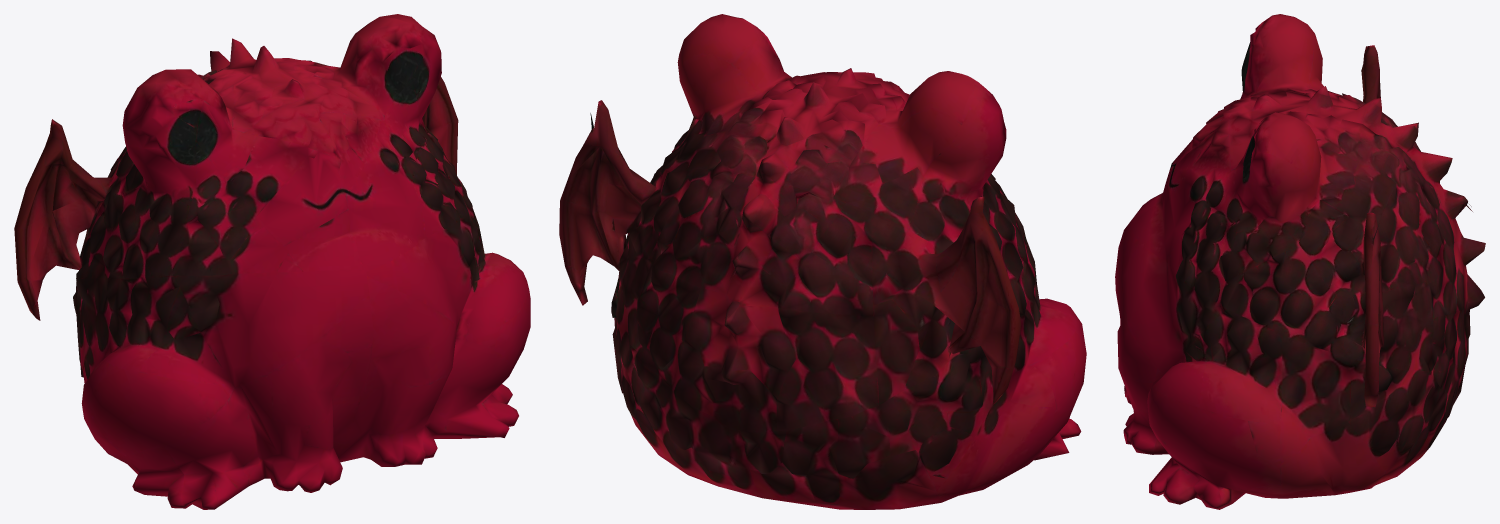
File: dragon.glb
The picture shows the model from 3 angles, left to right: view 1: azimuth 30°, elevation 25°; view 2: azimuth 150°, elevation 25°; view 3: azimuth 270°, elevation 25°; orthographic projection. The views are drawn at different scales.
Visible parts, largest first — view 1: mesh_node; view 2: mesh_node; view 3: mesh_node.
Boxes of the visible parts, x1,y1,x2,y2 form: mesh_node: (14,14,530,509); mesh_node: (559,14,1086,509); mesh_node: (1115,14,1485,509).
Bounding box in the file's own units: 1.89 × 1.55 × 1.46.
Materials: 1 (1 with a texture image).
